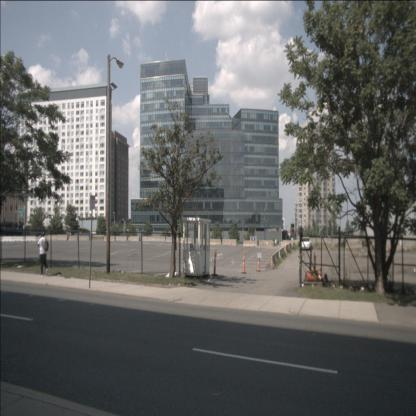barrier: (258, 239, 274, 247), (243, 239, 258, 247), (222, 238, 237, 246), (269, 253, 277, 267), (278, 247, 286, 260), (192, 238, 205, 245), (280, 240, 292, 247), (178, 238, 192, 244), (274, 250, 280, 264), (205, 239, 221, 244), (12, 236, 25, 242), (0, 236, 12, 242), (166, 236, 178, 242), (78, 236, 90, 242), (291, 240, 301, 246), (284, 244, 290, 254), (142, 236, 154, 241), (155, 236, 165, 242), (47, 235, 57, 241), (103, 236, 115, 241), (68, 235, 78, 241), (306, 238, 316, 244), (115, 236, 127, 241), (25, 236, 36, 241), (93, 235, 104, 240), (128, 236, 139, 241), (57, 235, 68, 240), (36, 236, 47, 241), (332, 238, 341, 244), (316, 238, 325, 244), (355, 239, 364, 244), (364, 239, 373, 244), (325, 238, 332, 244), (340, 239, 348, 244), (288, 243, 292, 252), (348, 239, 355, 244), (292, 242, 296, 249)
cone: (212, 247, 219, 276), (304, 272, 322, 282), (241, 248, 247, 273), (308, 268, 322, 277), (256, 248, 261, 272), (309, 249, 312, 275), (320, 274, 328, 283), (313, 252, 316, 275), (270, 253, 274, 269)
